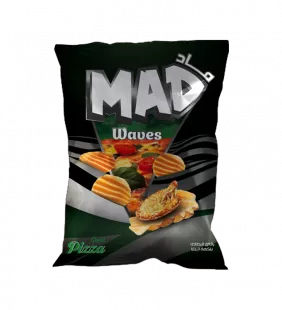WAVES MAD: (45, 30, 235, 276)
